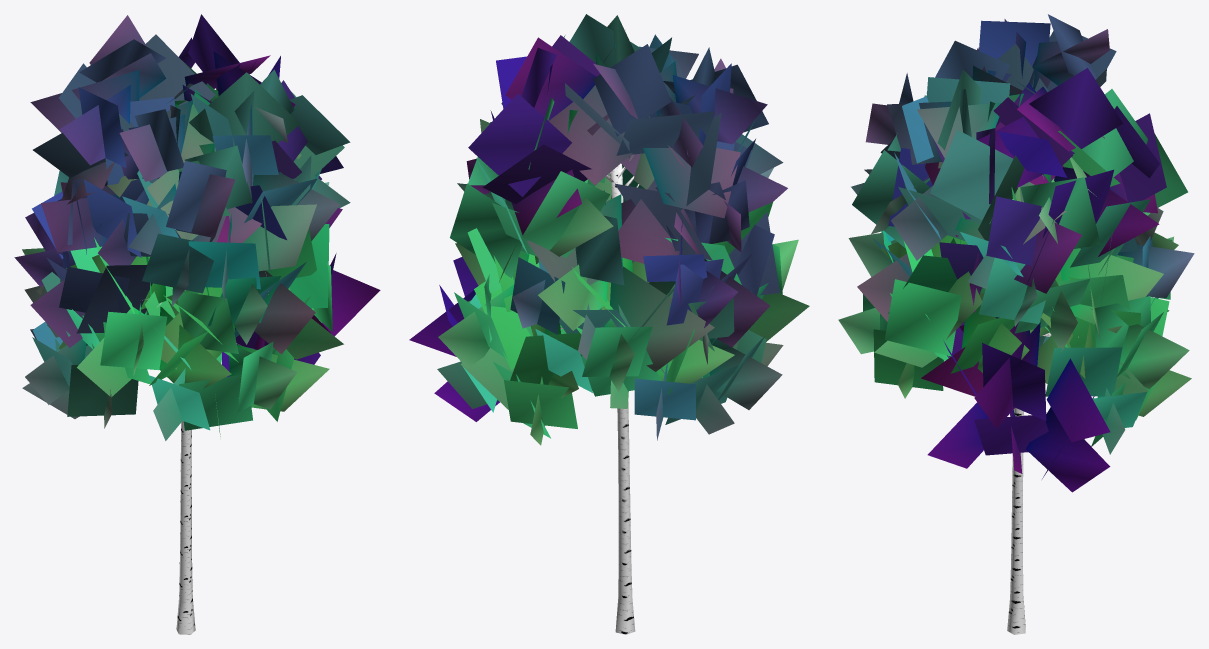
The model's file is Birch_LOD1.fbx.
The picture shows the model from 3 angles, left to right: view 1: azimuth 30°, elevation 25°; view 2: azimuth 150°, elevation 25°; view 3: azimuth 270°, elevation 25°; orthographic projection. The views are drawn at different scales.
Visible parts, largest first — view 1: Foliage, Bark; view 2: Foliage, Bark; view 3: Foliage, Bark.
Part boxes in pixels (left/top/right/bottom): Foliage: left=14, top=14, right=380, bottom=440; Bark: left=142, top=290, right=245, bottom=634; Foliage: left=409, top=14, right=809, bottom=445; Bark: left=560, top=154, right=639, bottom=634; Foliage: left=838, top=14, right=1194, bottom=492; Bark: left=1007, top=332, right=1078, bottom=634.
Size of the model in its own units: 8.17 by 13.93 by 7.52.
